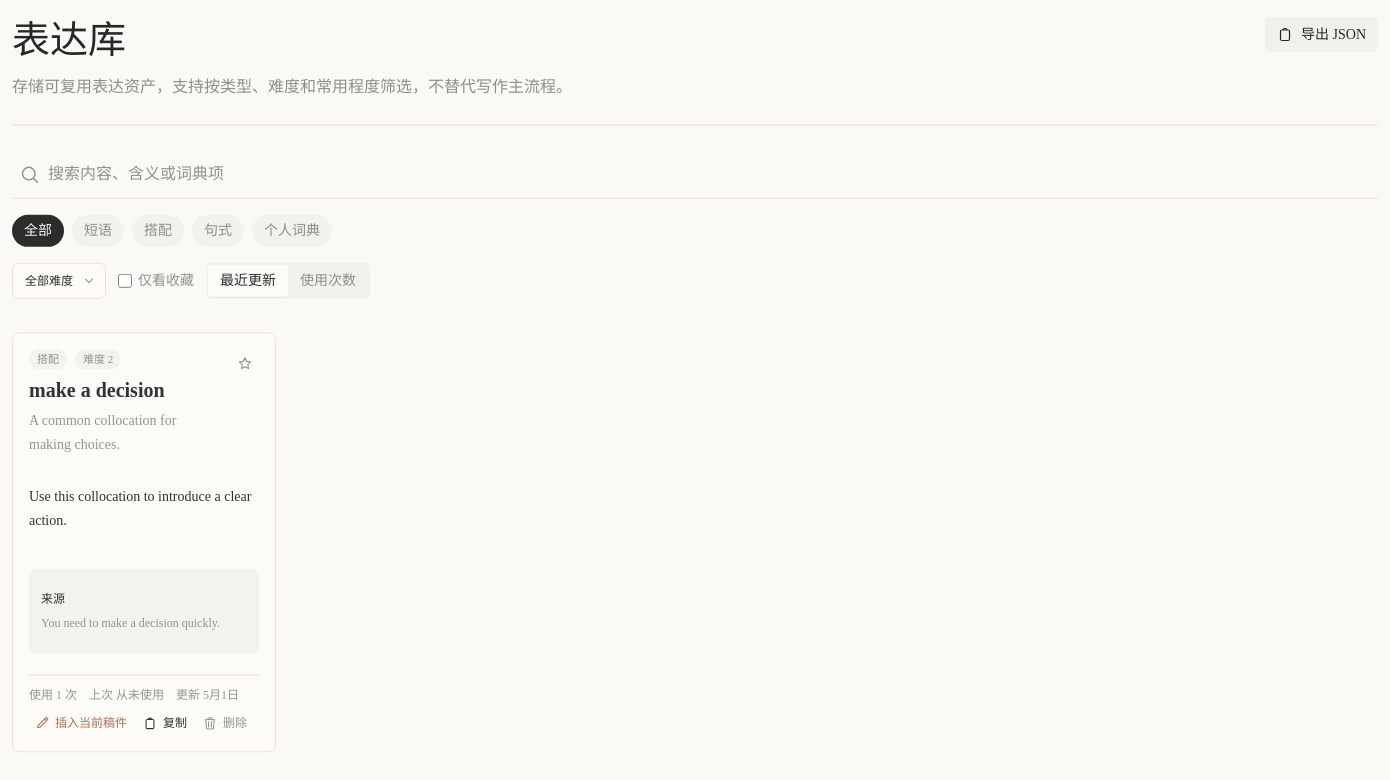
Test case: LearningLibraryPanel › shows action feedback when copying a learning item
Click the button "复制": (165, 718) [137,706,193,730]
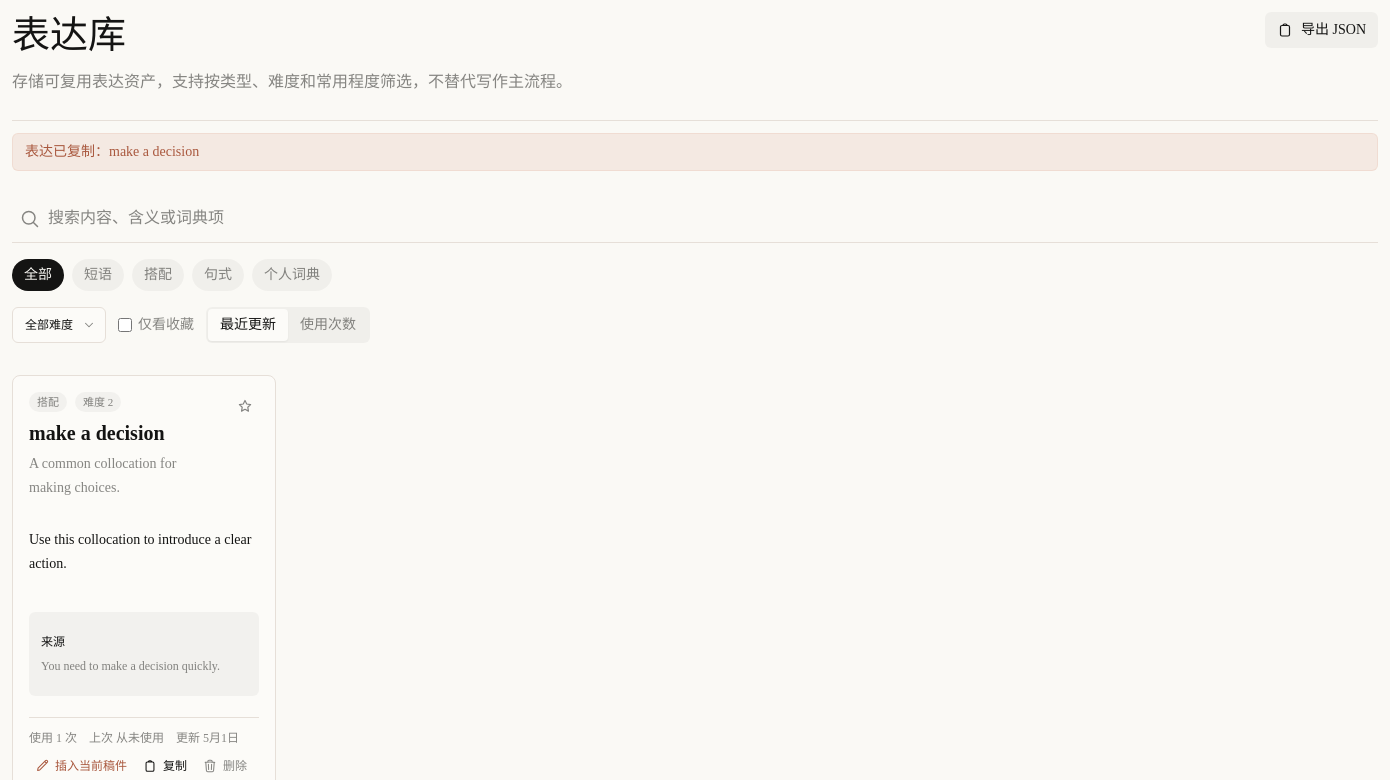
Expected: the heading "make a decision" is shown, [29,422,165,444]
Expected: the message shows "表达已复制", [25,144,199,158]
